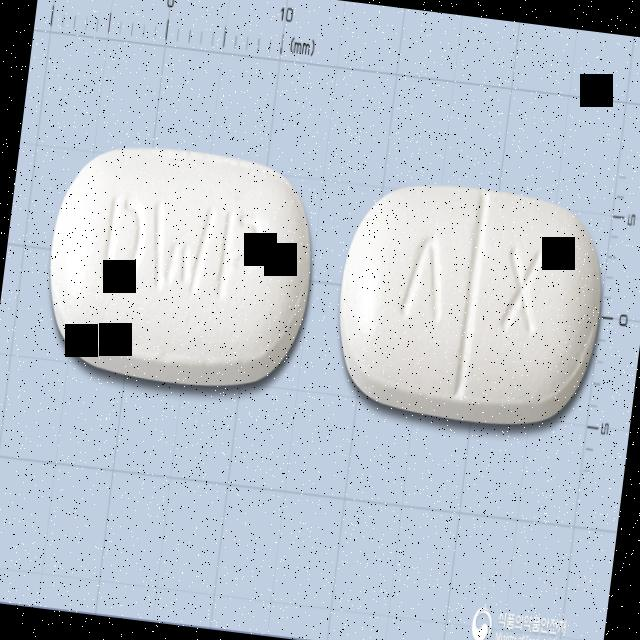Amoxicle-7-1-: (33, 128, 328, 408), (326, 170, 614, 440)
